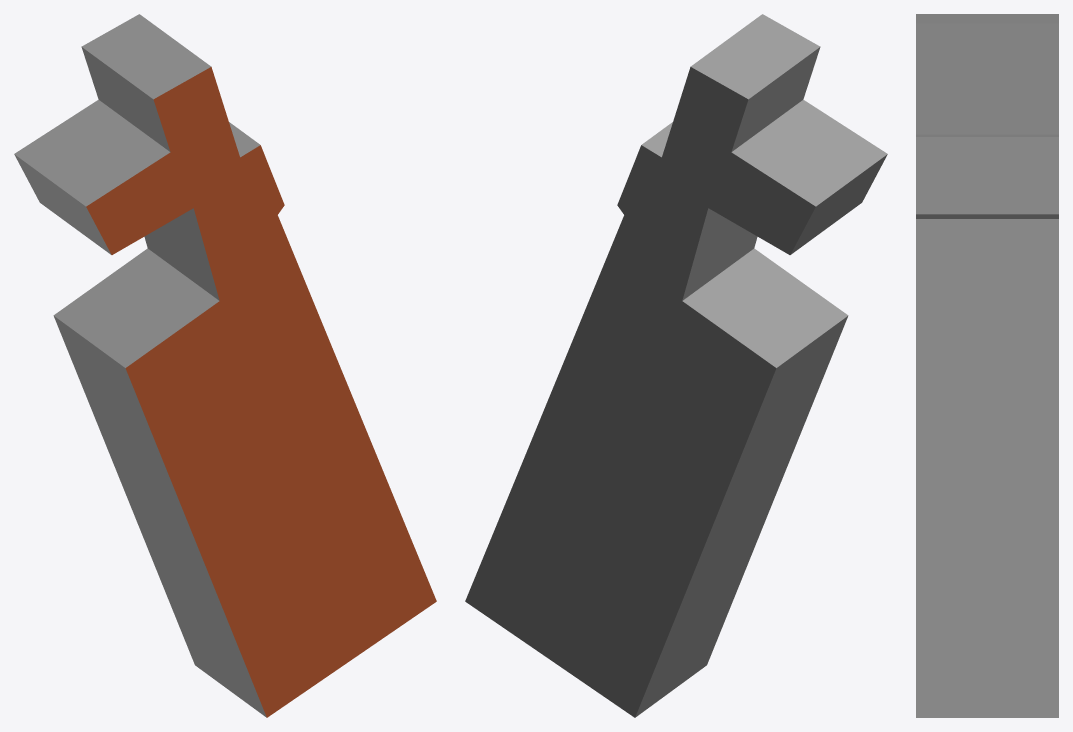
Rendered from construction_5950_assumed_A_Casa_h6m.obj.
The picture shows the model from 3 angles, left to right: view 1: azimuth 30°, elevation 25°; view 2: azimuth 150°, elevation 25°; view 3: azimuth 270°, elevation 25°; orthographic projection.
Parts seen in each view (by area): view 1: construction_5950_assumed_A_Casa; view 2: construction_5950_assumed_A_Casa; view 3: construction_5950_assumed_A_Casa.
Boxes of the visible parts, x1,y1,x2,y2 form: construction_5950_assumed_A_Casa: (14,14,436,717); construction_5950_assumed_A_Casa: (465,14,887,717); construction_5950_assumed_A_Casa: (916,14,1058,717).
Size of the model in its own units: 16.88 by 30.56 by 6.
